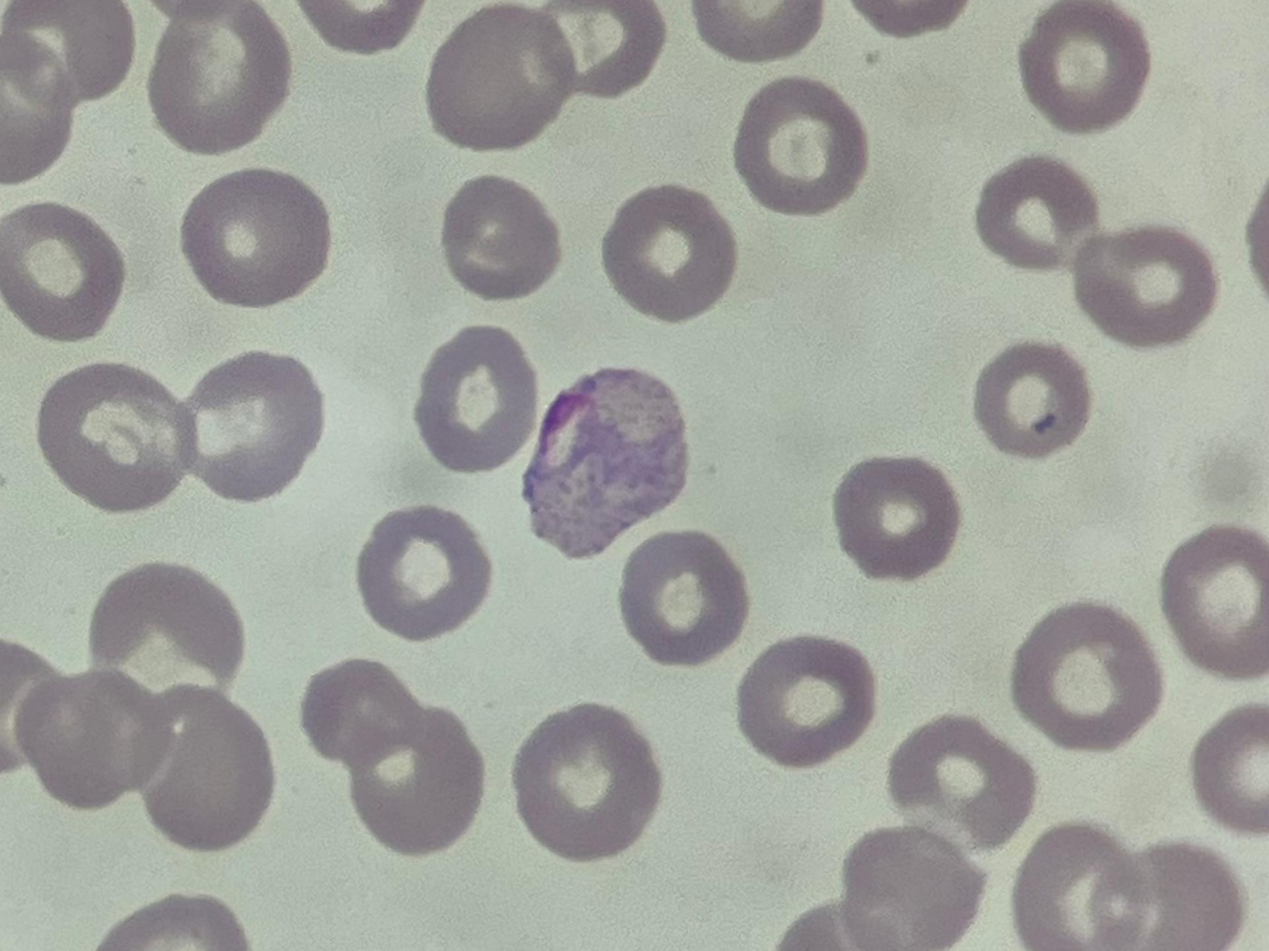Infected: (522, 364, 688, 561)
Uninfected: (36, 361, 195, 515), (89, 560, 248, 711), (1008, 600, 1165, 752), (142, 683, 276, 853), (147, 2, 295, 155), (178, 349, 326, 502), (512, 706, 656, 863), (177, 166, 334, 308), (425, 5, 572, 152), (17, 673, 170, 810), (889, 716, 1036, 851), (734, 77, 868, 219), (347, 719, 483, 857), (600, 185, 734, 325), (1015, 821, 1159, 951), (737, 633, 877, 766), (618, 529, 751, 666), (839, 825, 987, 948), (0, 202, 128, 342), (418, 326, 537, 476), (357, 508, 492, 639), (1019, 0, 1148, 136), (1069, 228, 1217, 346), (1160, 526, 1269, 679), (831, 453, 959, 582), (1096, 841, 1243, 951), (441, 176, 562, 301), (975, 157, 1100, 275), (527, 0, 670, 100), (0, 0, 134, 106), (975, 339, 1090, 457), (301, 661, 420, 767), (1190, 706, 1269, 832)
